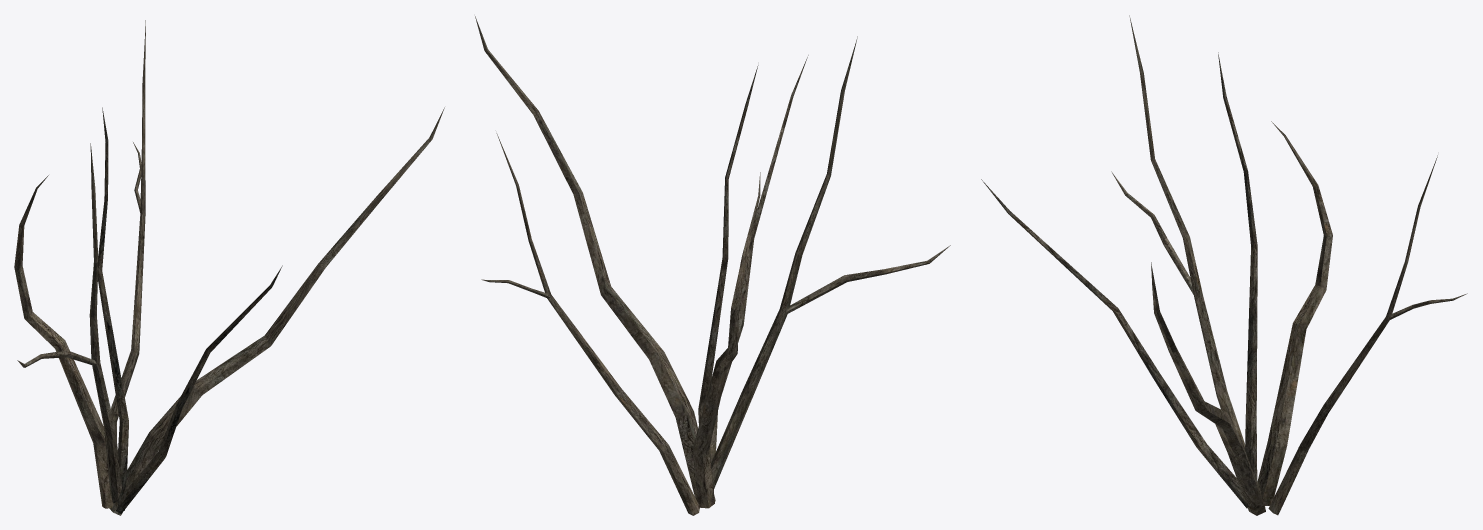
The model's file is 1_BUSH_TRUNK_01_1-transformed.glb.
The picture shows the model from 3 angles, left to right: view 1: azimuth 30°, elevation 25°; view 2: azimuth 150°, elevation 25°; view 3: azimuth 270°, elevation 25°; orthographic projection. The views are drawn at different scales.
Visible parts, largest first — view 1: default; view 2: default; view 3: default.
Boxes of the visible parts, left/top/right/bottom form: default: left=14, top=20, right=444, bottom=515; default: left=475, top=16, right=950, bottom=515; default: left=981, top=15, right=1467, bottom=515.
Bounding box in the file's own units: 4.01 × 3.76 × 3.66.
1 material, 1 textured.
